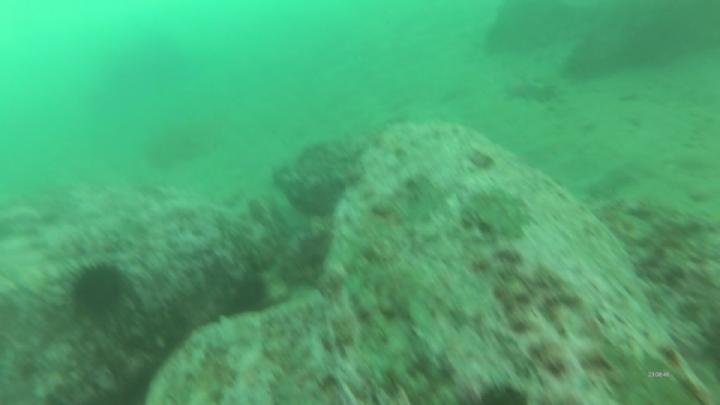echinus: (67, 258, 133, 319)
